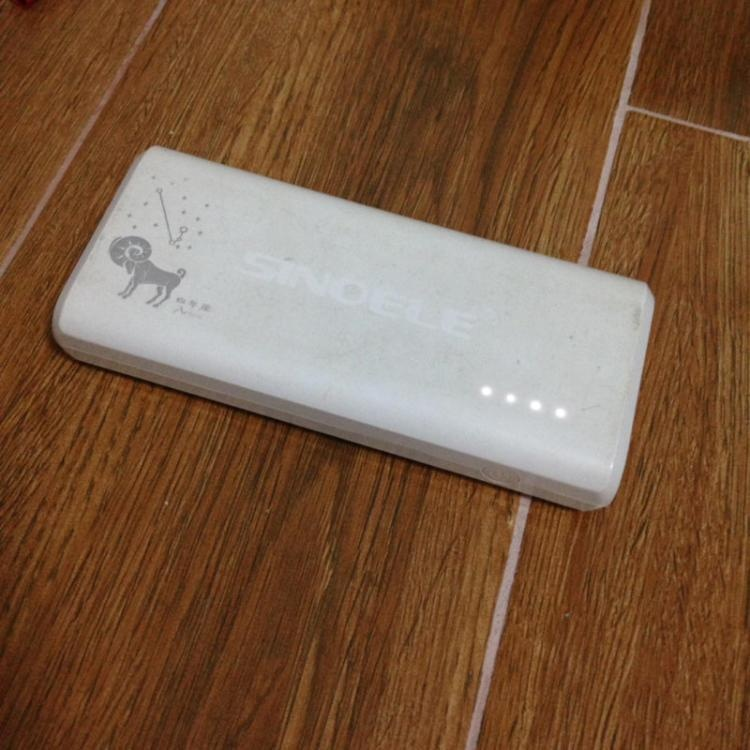power bank: (45, 142, 660, 520)
